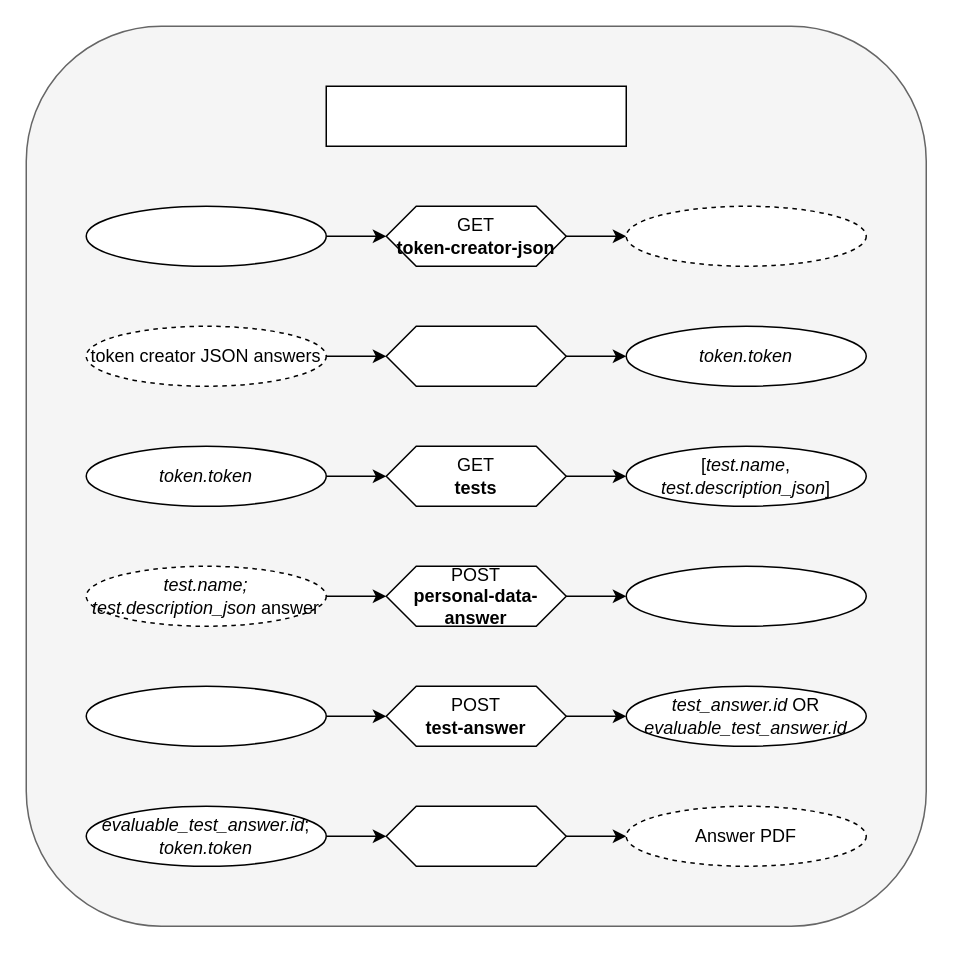
Image size: 953x953. Some labels were removed from this diagram. The centre of each missing label's shape, as x and y in pixels:
"GET test-answer-pdf" belongs at [475,835].
"personal data answer id; test.name; token.token; test.description_json answer" belongs at [205,715].
"POST token" belongs at [475,355].
"routes" belongs at [475,115].
"test_asnwer.id" belongs at [745,595].
"token creator JSON" belongs at [745,235].
